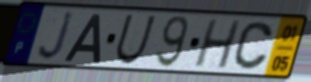9: (153, 14, 191, 70)
A: (61, 12, 102, 64)
C: (231, 20, 276, 72)
H: (191, 18, 243, 71)
J: (36, 10, 77, 63)
U: (113, 13, 158, 67)
